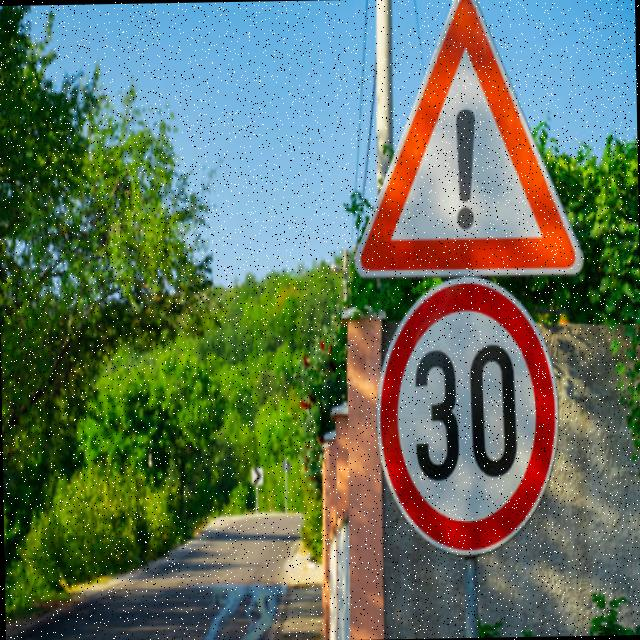warning: (339, 0, 587, 293)
